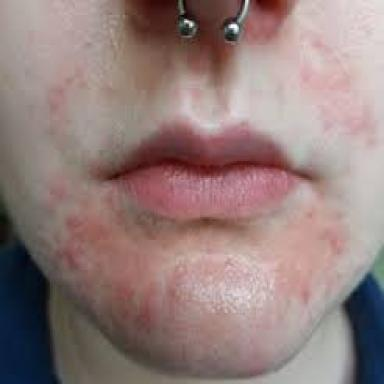burn: (54, 189, 357, 376), (126, 0, 292, 77), (294, 25, 380, 148), (48, 60, 89, 138), (44, 180, 74, 217)
